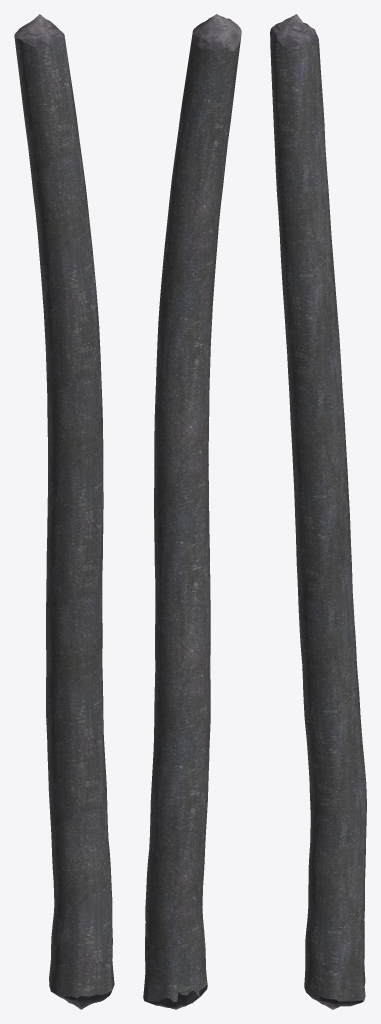
3 views of the same model, side by side, from view 1: azimuth 30°, elevation 25°; view 2: azimuth 210°, elevation 25°; view 3: azimuth 330°, elevation 25° (orthographic).
Visible parts, largest first — view 1: SM_FH_Ash_Tree_01_full_LOD0; view 2: SM_FH_Ash_Tree_01_full_LOD0; view 3: SM_FH_Ash_Tree_01_full_LOD0.
Part boxes in pixels (<box>): SM_FH_Ash_Tree_01_full_LOD0: <box>14,14,114,1009</box>; SM_FH_Ash_Tree_01_full_LOD0: <box>143,14,241,1009</box>; SM_FH_Ash_Tree_01_full_LOD0: <box>270,14,366,1009</box>.
Size of the model in its own units: 0.8889 by 9.08 by 0.6312.
1 material, 1 textured.
